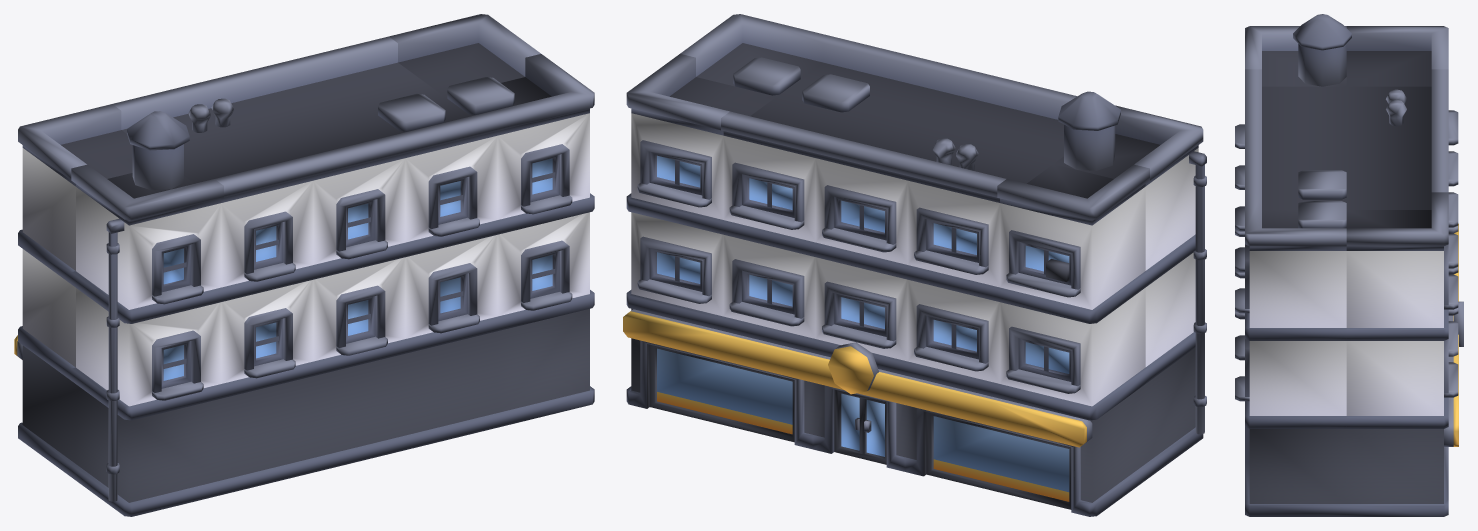
The model's file is building-k_lev1.glb.
3 renders of one model, left to right at view 1: azimuth 30°, elevation 25°; view 2: azimuth 150°, elevation 25°; view 3: azimuth 270°, elevation 25°, orthographic. The views are drawn at different scales.
Visible parts, largest first — view 1: building-k_lev1; view 2: building-k_lev1; view 3: building-k_lev1.
Part boxes in pixels (x1,y1,x2,y2): building-k_lev1: (14, 14, 594, 516); building-k_lev1: (623, 14, 1206, 516); building-k_lev1: (1235, 14, 1463, 516).
Bounding box in the file's own units: 2.08 × 1.47 × 0.942.
1 material, 1 textured.
